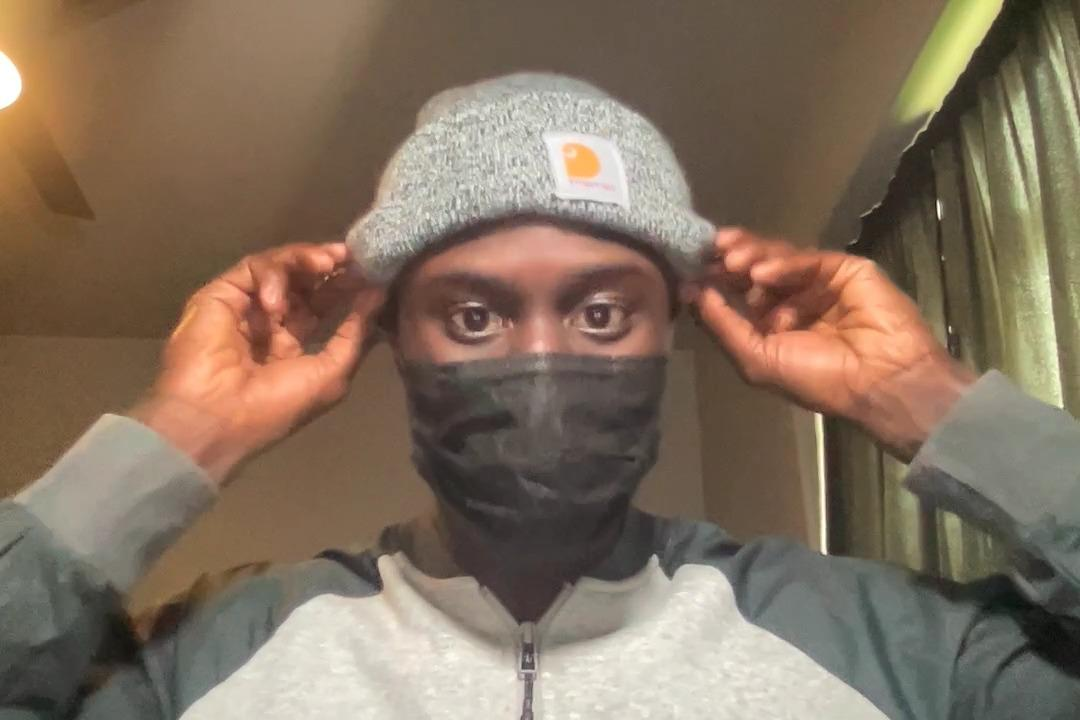face: (385, 226, 683, 552)
